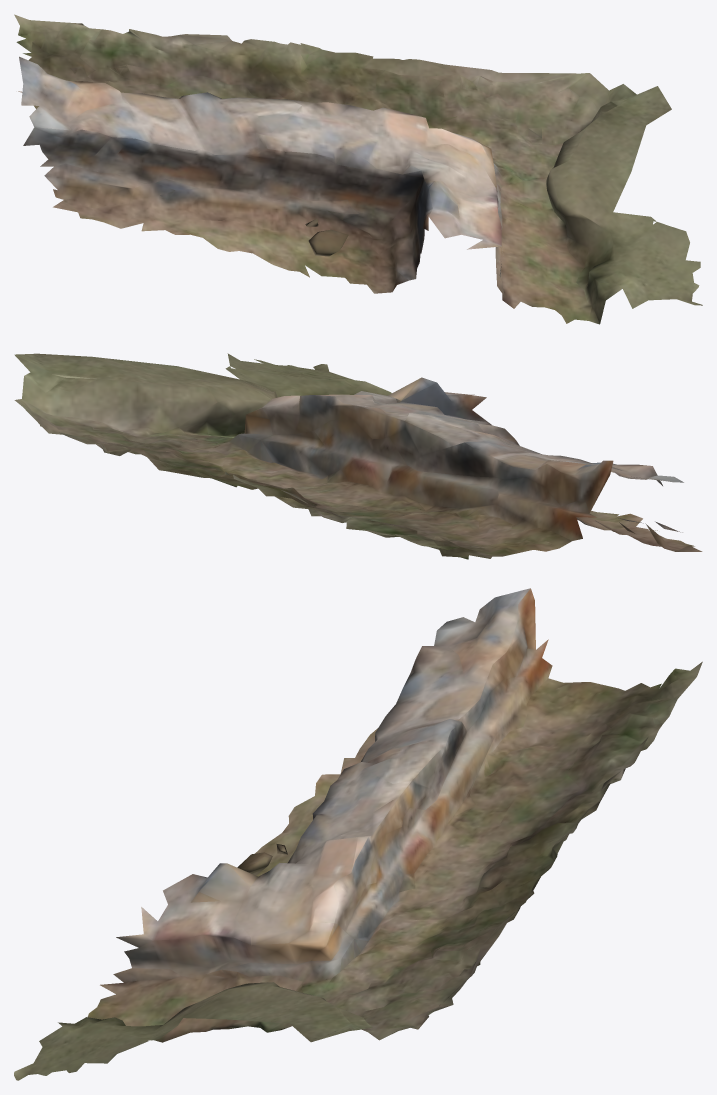
File: cpuzzle500_6.glb
3 renders of one model, top to bottom at view 1: azimuth 30°, elevation 25°; view 2: azimuth 150°, elevation 25°; view 3: azimuth 270°, elevation 25°, orthographic. The views are drawn at different scales.
Parts seen in each view (by area): view 1: Mesh_0.009; view 2: Mesh_0.009; view 3: Mesh_0.009.
Boxes of the visible parts, bbox=[...] form: Mesh_0.009: bbox=[14, 14, 702, 324]; Mesh_0.009: bbox=[14, 353, 702, 559]; Mesh_0.009: bbox=[14, 588, 702, 1080].
Size of the model in its own units: 9.54 by 3.27 by 8.36.
1 material, 1 textured.
